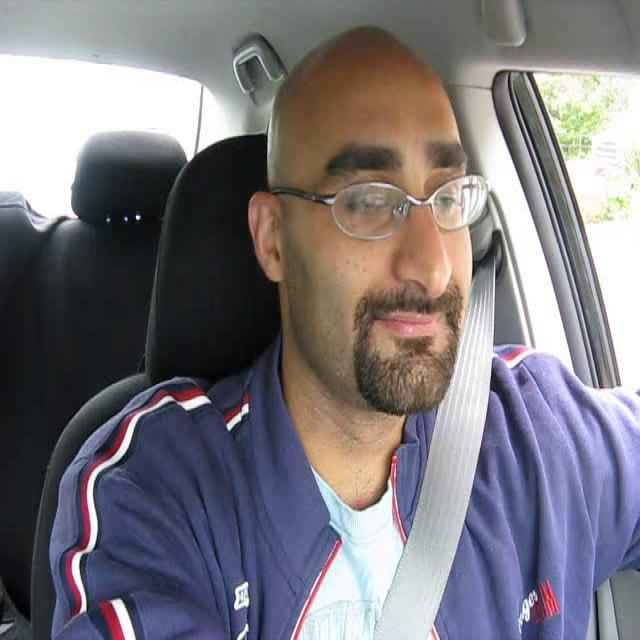close: (374, 305, 450, 341)
